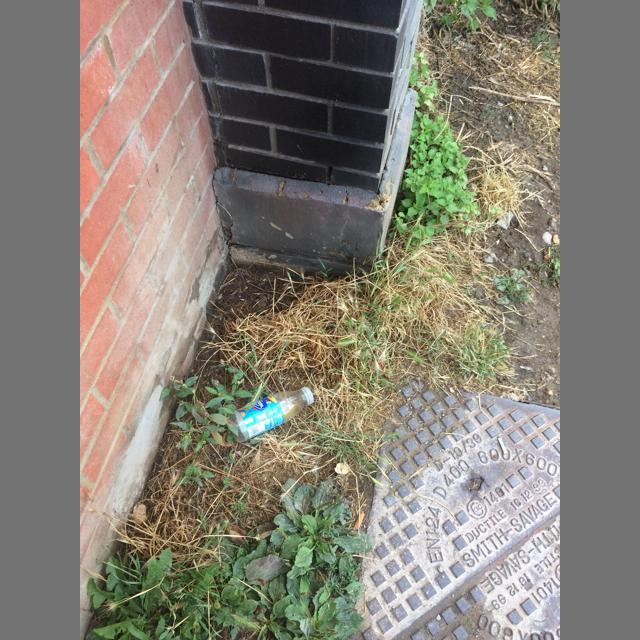litter: (227, 387, 314, 442), (352, 512, 365, 531), (303, 387, 314, 405)
